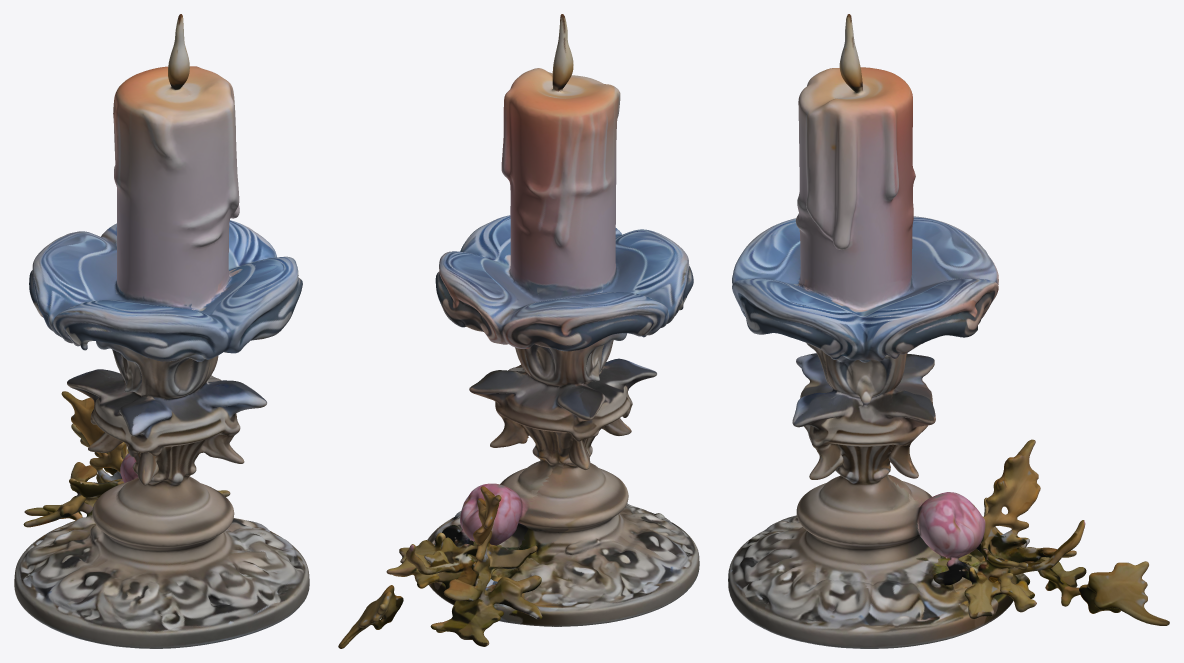
File: Vela.glb
3 renders of one model, left to right at view 1: azimuth 30°, elevation 25°; view 2: azimuth 150°, elevation 25°; view 3: azimuth 270°, elevation 25°, orthographic. The views are drawn at different scales.
Size of the model in its own units: 0.433 by 0.9421 by 0.649.
Materials: 1 (1 with a texture image).
